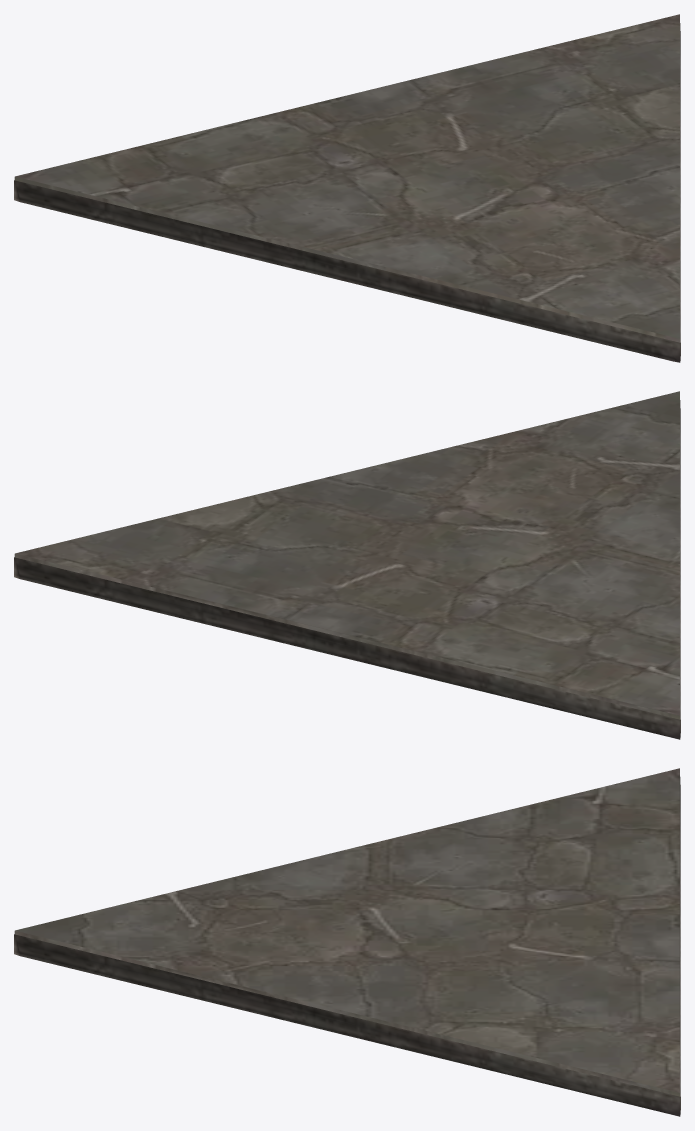
Rendered from foundation.triangle.crypt.glb.
3 renders of one model, top to bottom at view 1: azimuth 30°, elevation 25°; view 2: azimuth 150°, elevation 25°; view 3: azimuth 270°, elevation 25°, orthographic.
Visible parts, largest first — view 1: model; view 2: model; view 3: model.
Boxes of the visible parts, x1,y1,x2,y2 form: model: (14,14,680,362); model: (14,391,680,739); model: (14,768,680,1116).
Size of the model in its own units: 3 by 0.1049 by 2.61.
Materials: 1 (1 with a texture image).
